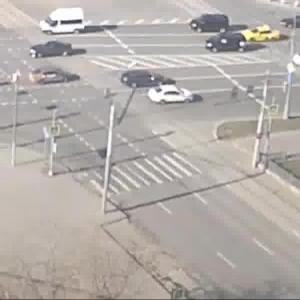car: (136, 82, 201, 108), (39, 7, 87, 34), (29, 41, 81, 62), (121, 69, 173, 90), (194, 14, 234, 38), (239, 23, 287, 43), (32, 68, 78, 86), (217, 30, 248, 56), (277, 11, 300, 32)
